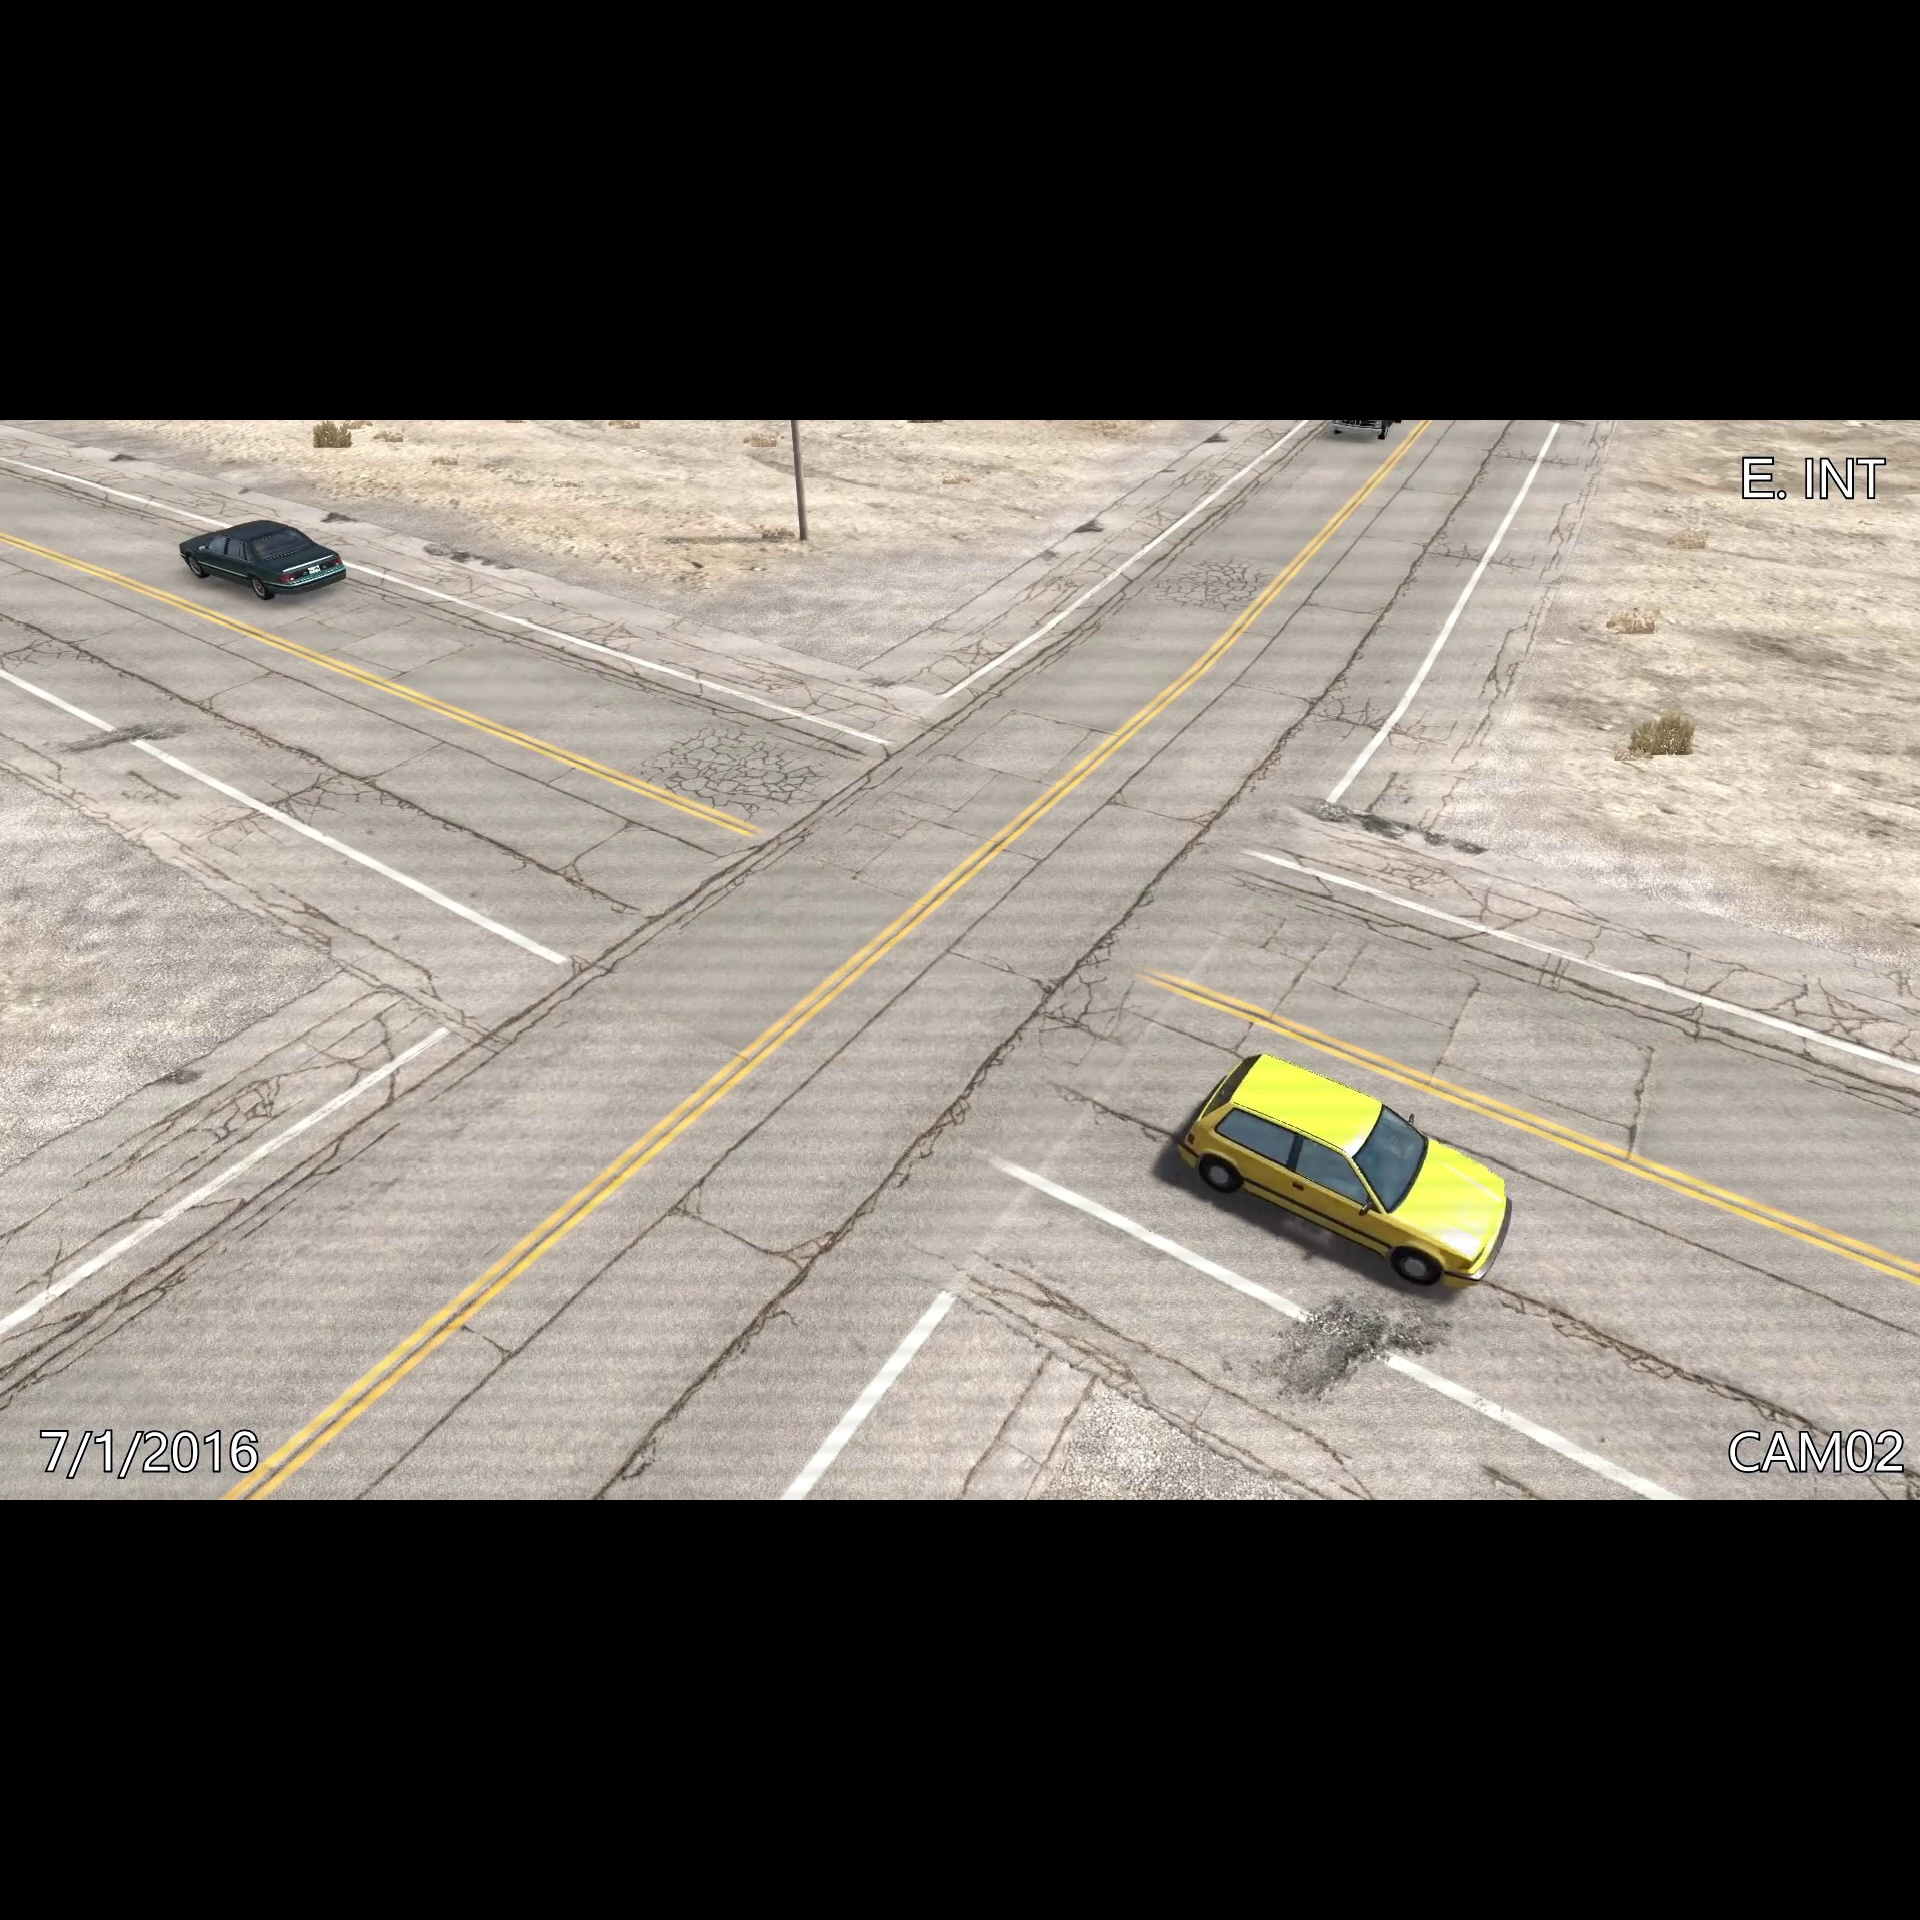vehicle: (1160, 1039, 1528, 1306), (171, 517, 357, 601)
